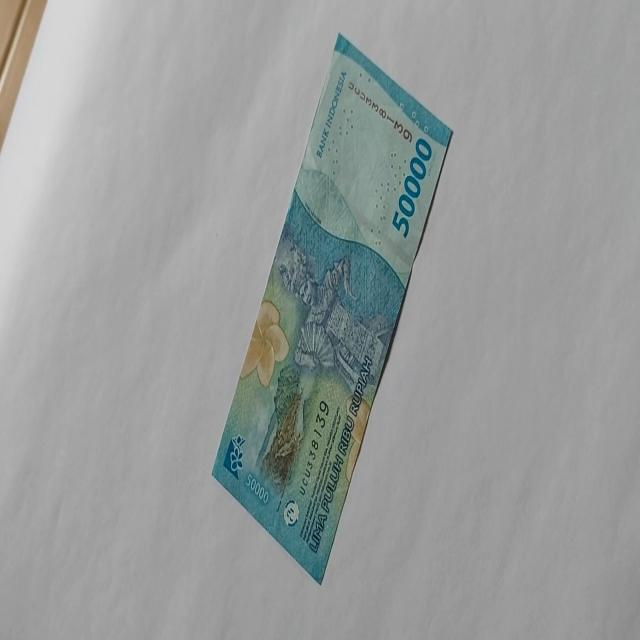lima puluh ribu rupiah: (211, 31, 454, 585)
